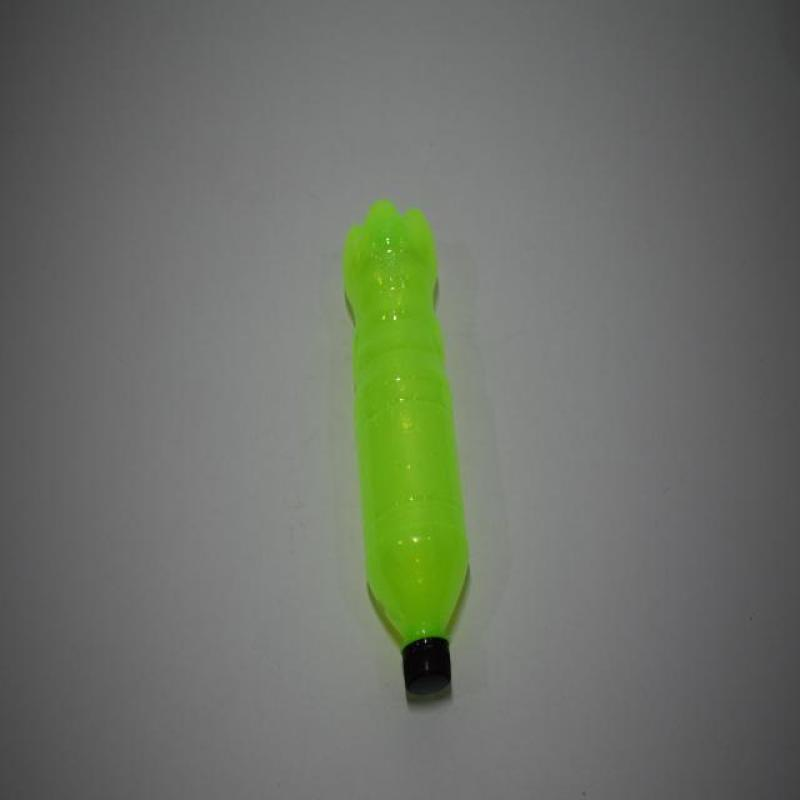botella: (342, 200, 473, 700)
